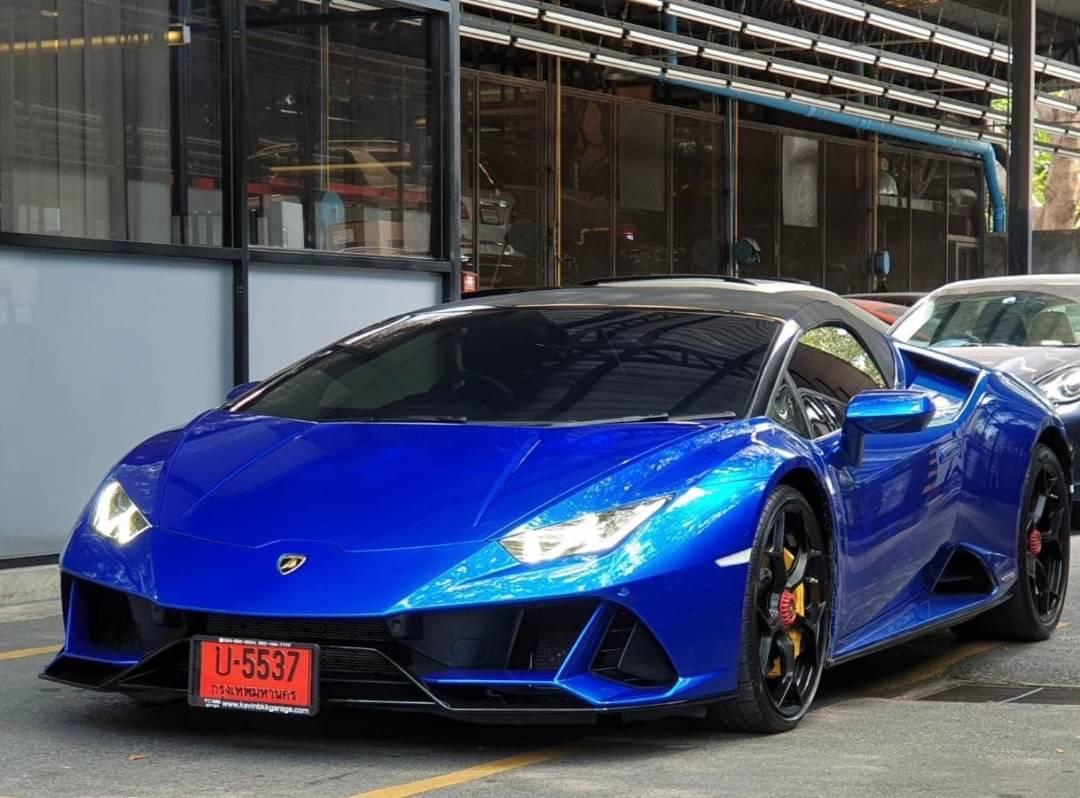license-plate: (187, 632, 320, 718)
